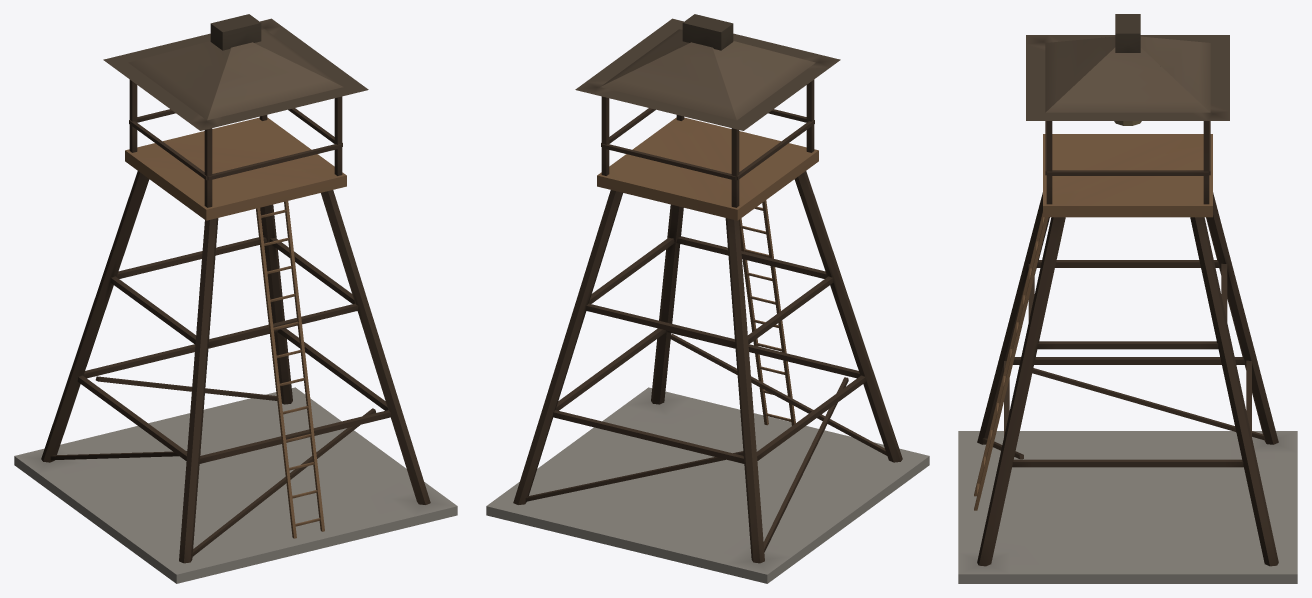
The model's file is hinomi-yagura.glb.
The picture shows the model from 3 angles, left to right: view 1: azimuth 30°, elevation 25°; view 2: azimuth 150°, elevation 25°; view 3: azimuth 270°, elevation 25°; orthographic projection. The views are drawn at different scales.
Visible parts, largest first — view 1: p0_legs, p2_lookout, p1_bracing; view 2: p0_legs, p2_lookout, p1_bracing; view 3: p0_legs, p2_lookout, p1_bracing.
Boxes of the visible parts, x1,y1,x2,y2 form: p0_legs: (14,171,457,583); p2_lookout: (103,14,368,220); p1_bracing: (50,201,391,556); p0_legs: (486,171,929,583); p2_lookout: (575,14,840,220); p1_bracing: (525,200,887,552); p0_legs: (958,192,1297,583); p2_lookout: (1026,14,1229,217); p1_bracing: (974,211,1264,510).
Size of the model in its own units: 8 by 12.7 by 8.
